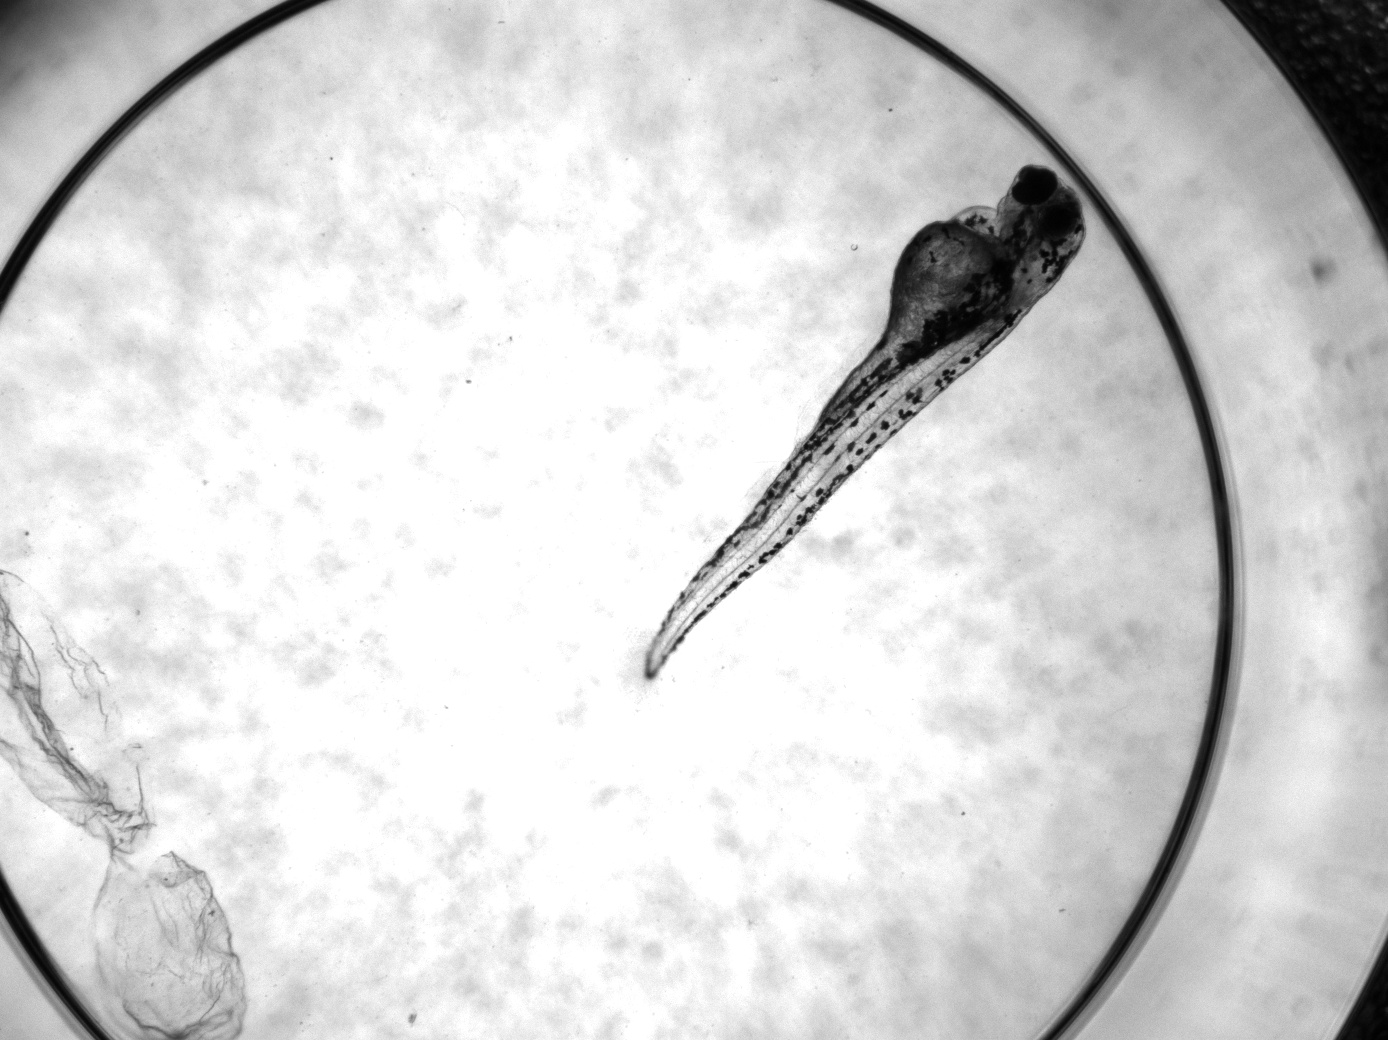debris: (1, 563, 246, 1038)
embryo: (646, 164, 1090, 681)
eye: (1010, 164, 1057, 206), (1037, 198, 1080, 239)
yolksac: (839, 206, 1027, 399)
